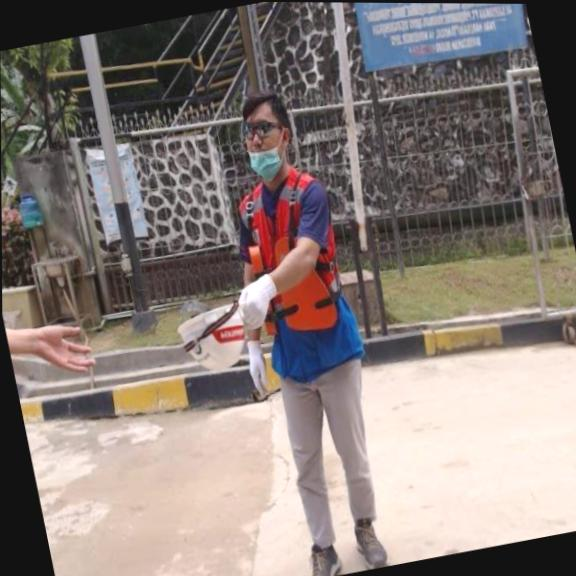safety_vest: (243, 230, 339, 341)
